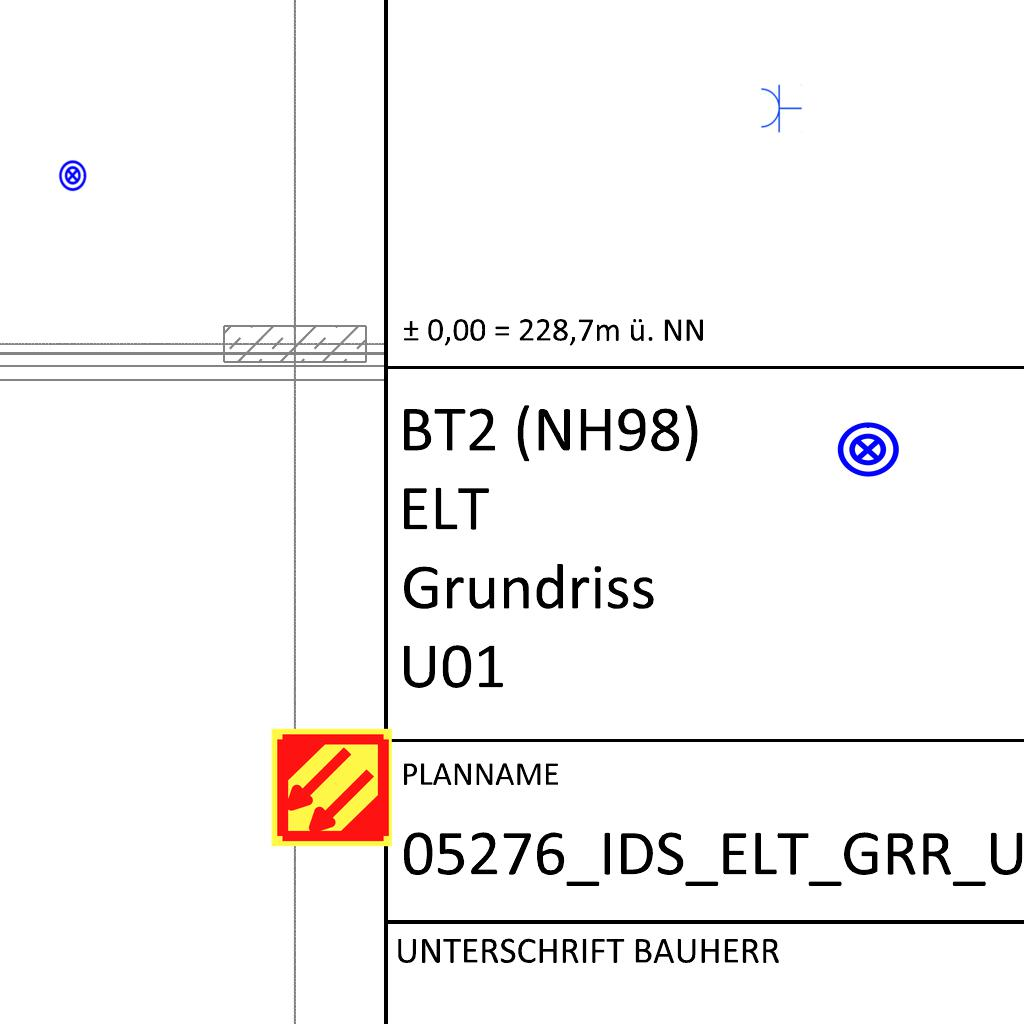ASR_Ansaugrauchmelder: (269, 725, 394, 850)
Schukosteckdose_einfach: (759, 83, 802, 133)
Taster_beleuchtet: (835, 417, 901, 483), (56, 159, 89, 192)
